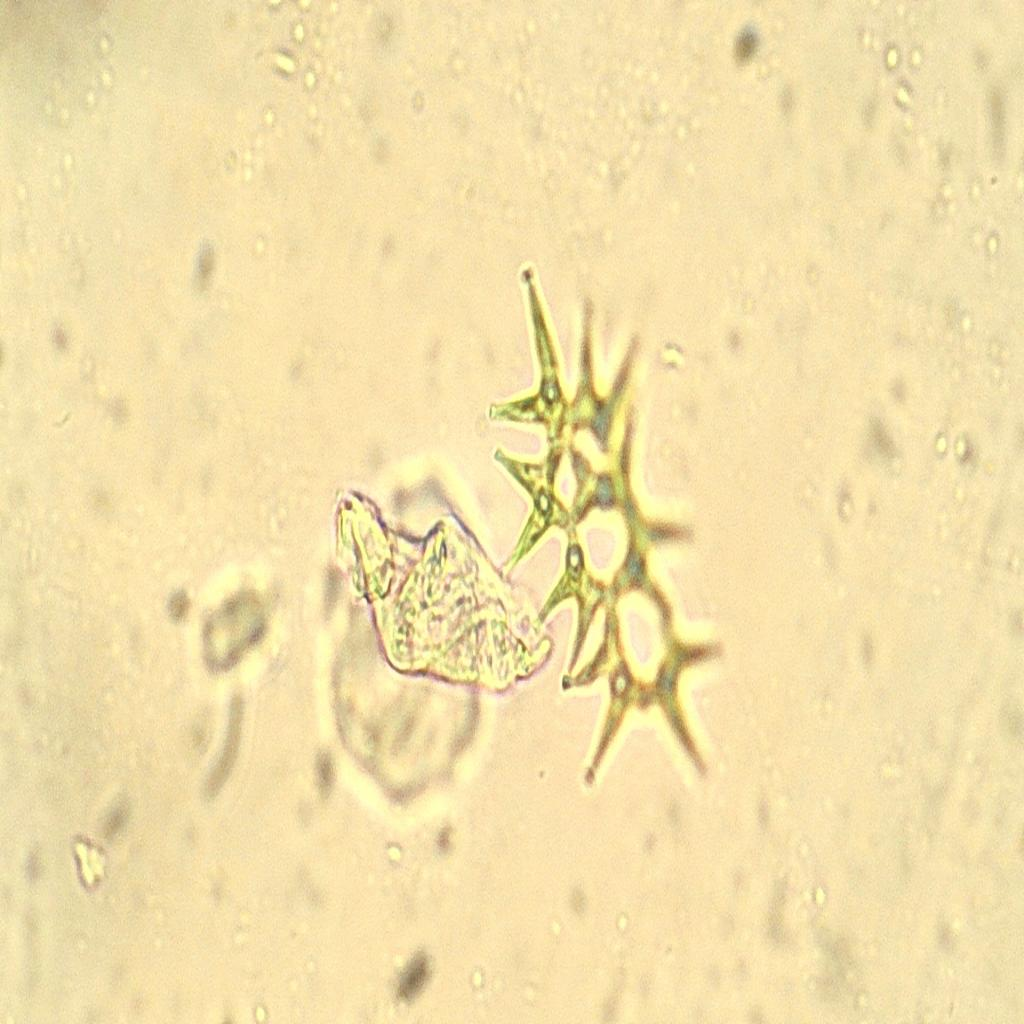Pediastrum_CFI: (479, 244, 740, 840)
